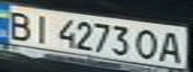2: (72, 18, 96, 52)
3: (109, 23, 136, 57)
4: (51, 16, 78, 48)
7: (90, 20, 115, 54)
A: (154, 29, 187, 64)
B: (3, 8, 36, 42)
I: (27, 11, 57, 44)
O: (133, 27, 163, 61)
